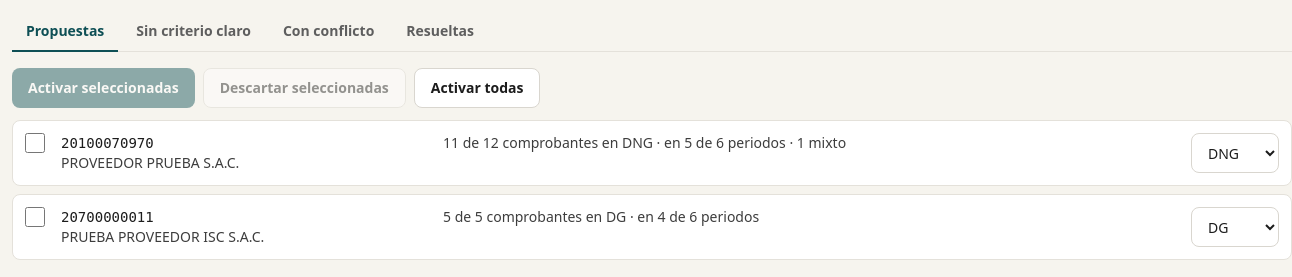
Test: <CandidatasImportadas /> · sin criterio claro (U-8) › se listan aparte con sus conteos y sin casillas: solo se activan de una en una eligiendo el destino
Click the tab "Sin criterio claro" at coordinates (194, 32), box left=122, top=12, right=265, bottom=52
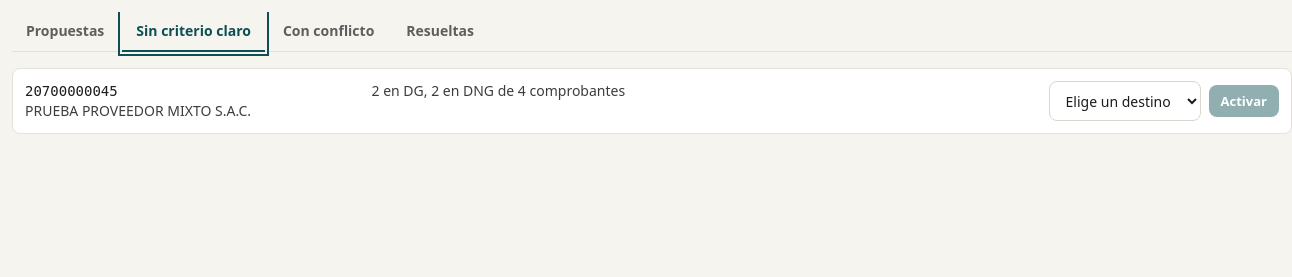
expect the text "2 en DG, 2 en DNG de 4 comprobantes" is shown: met, box left=372, top=81, right=625, bottom=100
expect the checkbox is gone: met
expect the button "Activar todas" is gone: met
Select "DNG" in the dropdown named "Destino de 20700000045" at coordinates (1125, 101), box left=1049, top=81, right=1201, bottom=121
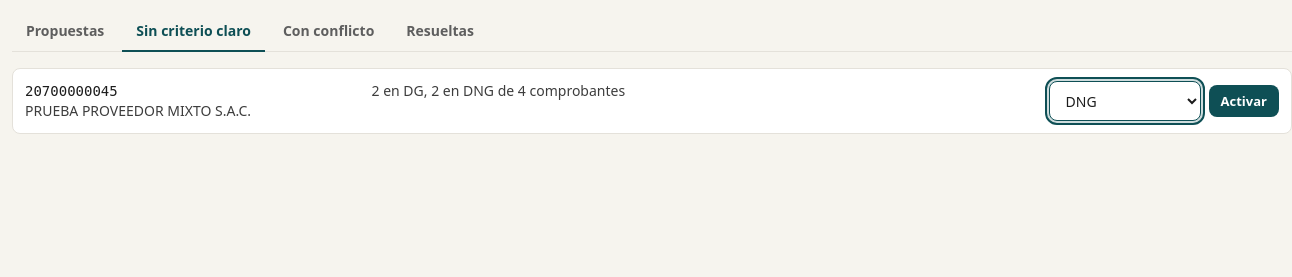
Click the button "Activar" at coordinates (1244, 101), box left=1209, top=85, right=1279, bottom=117
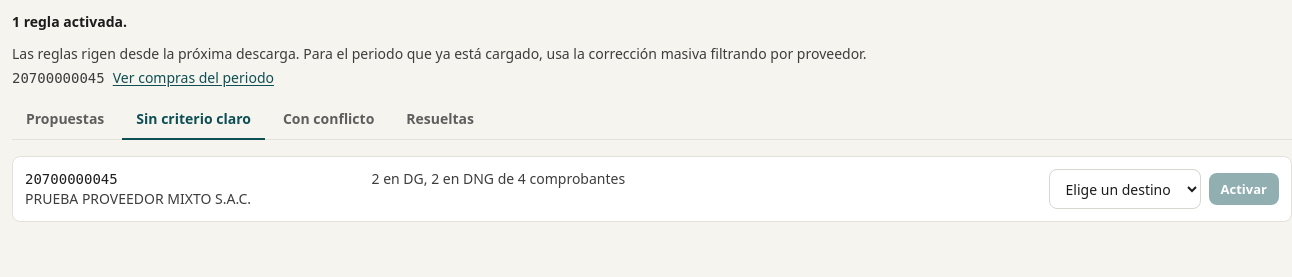
expect the text "1 regla activada." is shown: met, box left=12, top=12, right=127, bottom=31
